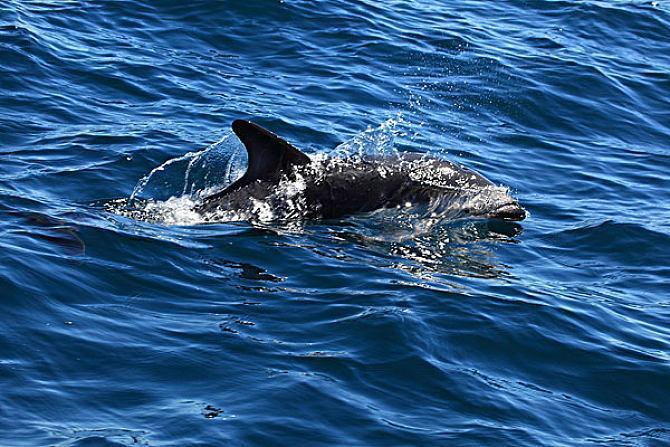fish: (185, 115, 530, 234)
